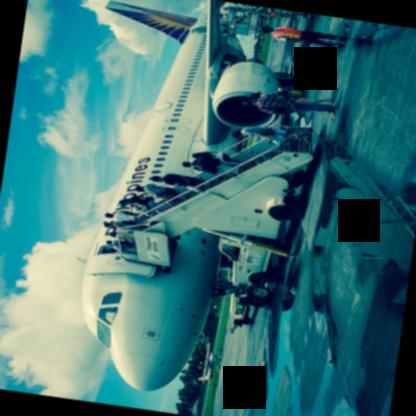backpack: (192, 156, 221, 173), (113, 239, 132, 248)
